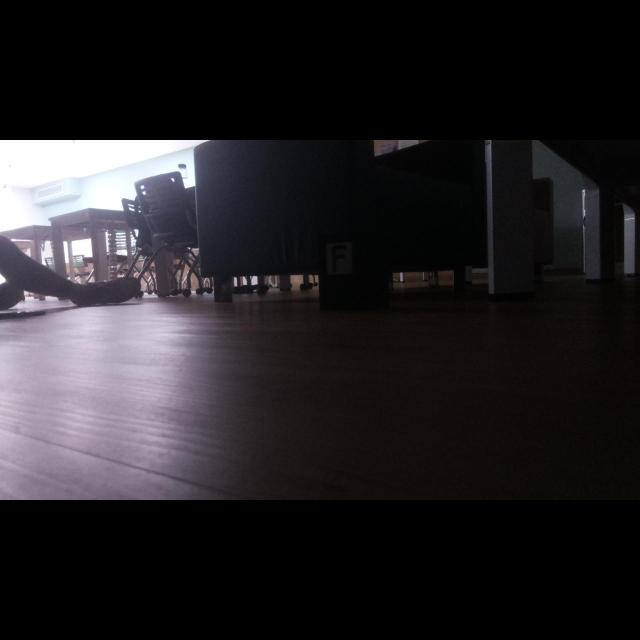F: (332, 245, 346, 272)
